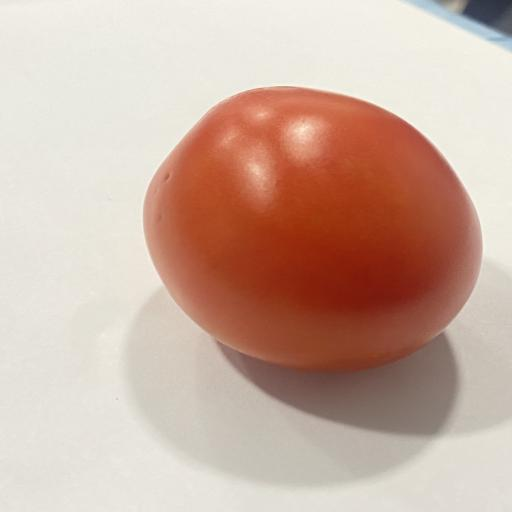ripe: (143, 87, 482, 371)
